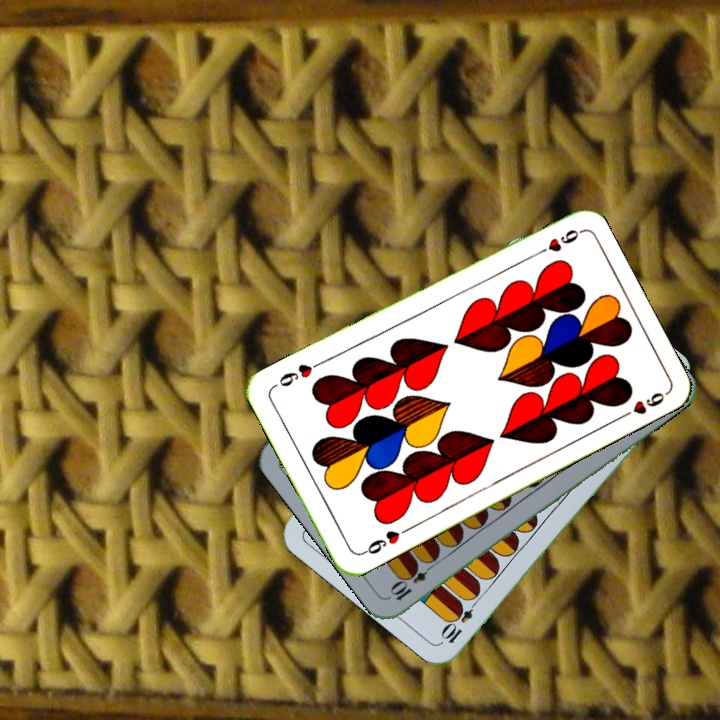E10: (387, 557, 438, 604), (438, 593, 482, 646)
H9: (527, 225, 583, 260), (357, 524, 412, 558)
